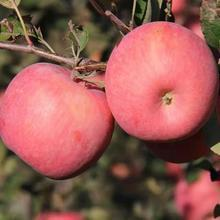apple: (106, 20, 219, 140), (1, 63, 112, 179)
